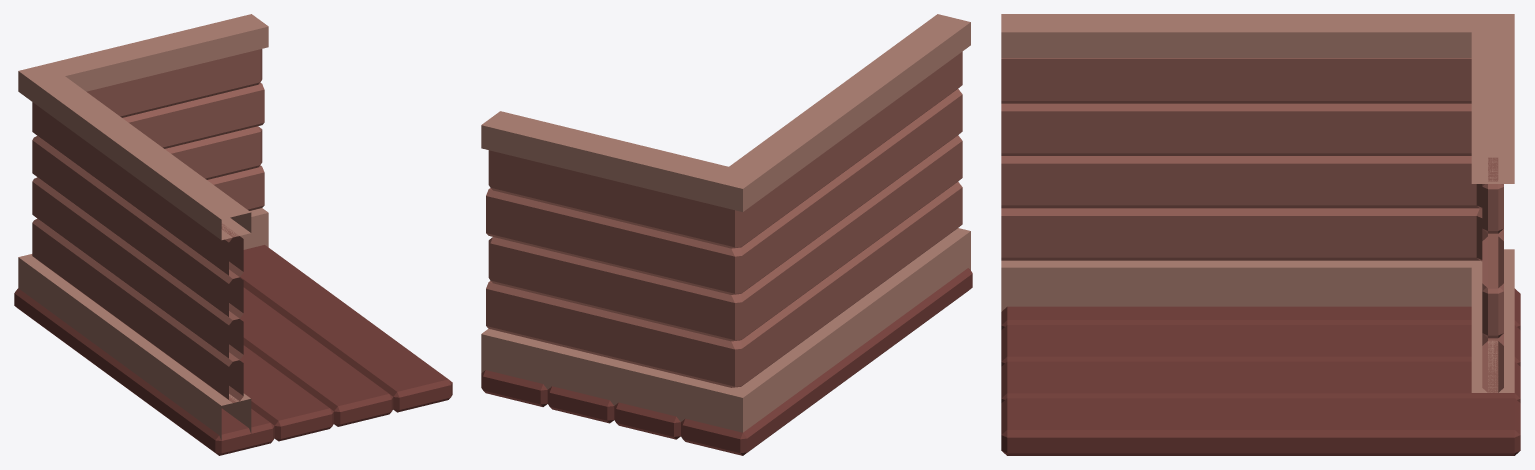
File: BalconyCorner_2.fbx
3 views of the same model, side by side, from view 1: azimuth 30°, elevation 25°; view 2: azimuth 150°, elevation 25°; view 3: azimuth 270°, elevation 25° (orthographic). The views are drawn at different scales.
Parts seen in each view (by area): view 1: BalconyCorner_2; view 2: BalconyCorner_2; view 3: BalconyCorner_2.
Part boxes in pixels (x1,y1,x2,y2): BalconyCorner_2: (14, 14, 452, 455); BalconyCorner_2: (481, 14, 972, 455); BalconyCorner_2: (1001, 14, 1520, 455).
Size of the model in its own units: 1.2 by 1.8 by 1.15.
